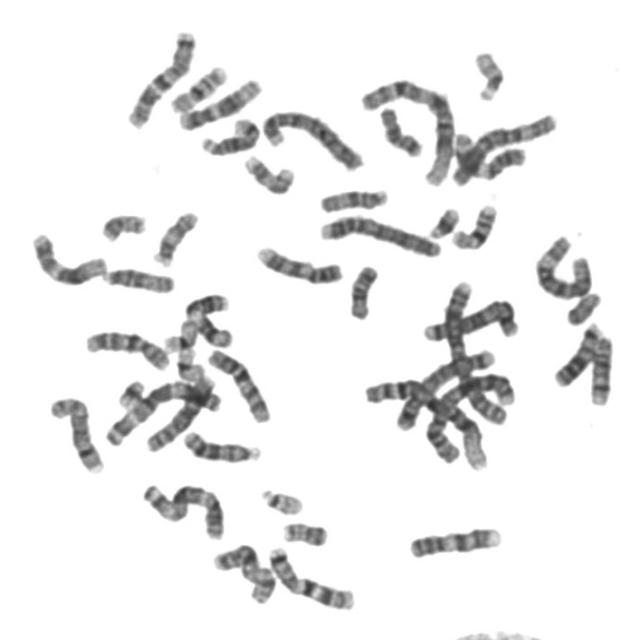A1: (359, 372, 494, 471), (355, 72, 458, 189)
A2: (440, 273, 511, 426), (420, 367, 520, 466)
A3: (100, 372, 222, 448), (136, 476, 228, 541)
B4: (256, 103, 367, 172), (313, 208, 444, 260)
B5: (389, 343, 498, 433), (418, 292, 522, 344)
C10: (202, 341, 273, 425), (79, 322, 174, 373)
C11: (447, 126, 528, 183), (180, 287, 237, 349)
C12: (173, 71, 264, 132), (26, 225, 110, 288)
C6: (448, 106, 560, 186), (530, 228, 596, 301)
C7: (121, 22, 199, 130), (262, 539, 358, 612)
C8: (140, 371, 218, 455), (42, 389, 107, 476)
C9: (251, 238, 346, 286), (403, 519, 505, 561)
D13: (548, 316, 606, 389), (178, 423, 264, 464)
D14: (194, 111, 262, 157), (585, 328, 617, 407)
D15: (98, 260, 178, 295), (314, 181, 391, 214)
E16: (165, 57, 231, 115), (446, 196, 501, 251)
E17: (148, 204, 201, 268), (238, 148, 298, 196)
E18: (375, 102, 425, 158), (343, 257, 381, 321)
F19: (158, 314, 200, 354), (172, 342, 209, 382)
F20: (96, 206, 149, 243), (277, 514, 330, 548)
G21: (424, 201, 464, 240), (112, 372, 148, 411)
G22: (468, 43, 508, 103), (255, 482, 307, 516)
X: (206, 537, 278, 606)
Y: (560, 284, 605, 326)
